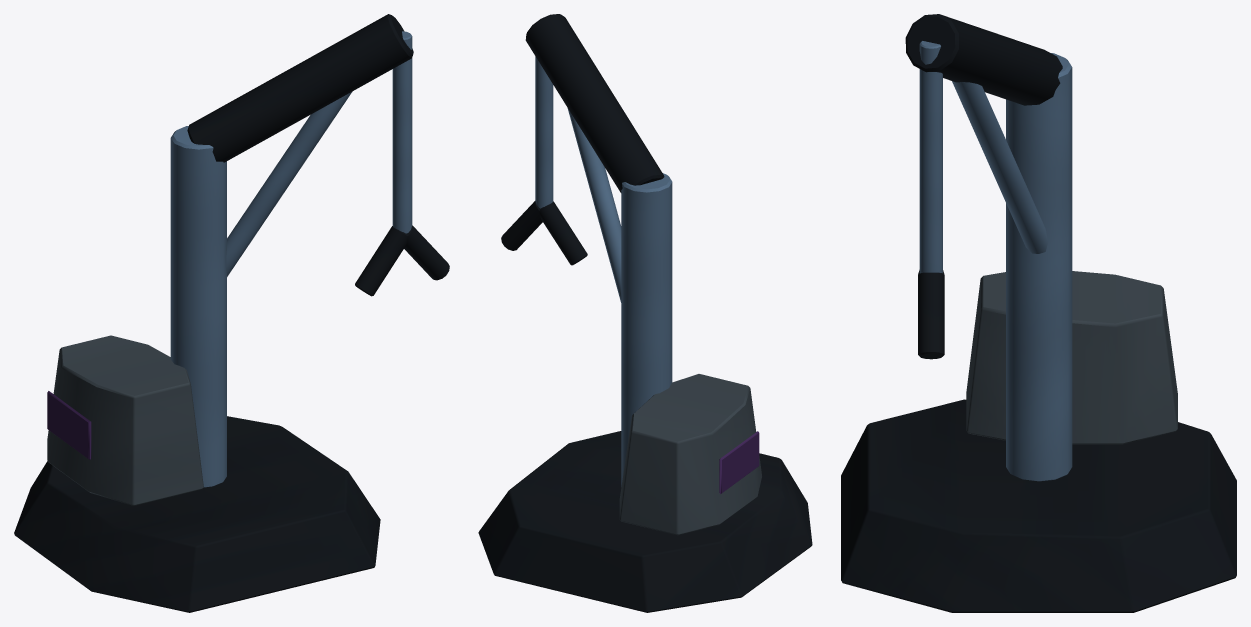
File: Loading_Crane.fbx
The picture shows the model from 3 angles, left to right: view 1: azimuth 30°, elevation 25°; view 2: azimuth 150°, elevation 25°; view 3: azimuth 270°, elevation 25°; orthographic projection. The views are drawn at different scales.
Visible parts, largest first — view 1: Loading_Crane; view 2: Loading_Crane; view 3: Loading_Crane.
Boxes of the visible parts, x1=… form: Loading_Crane: x1=14, y1=14, x2=449, y2=612; Loading_Crane: x1=478, y1=14, x2=812, y2=612; Loading_Crane: x1=841, y1=14, x2=1236, y2=612.
Bounding box in the file's own units: 2.87 × 4 × 2.39.
